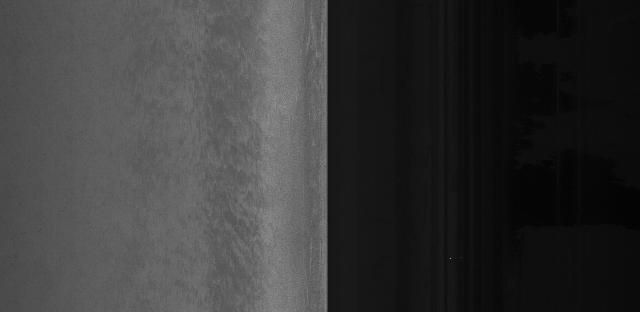silk_spot: (202, 82, 281, 251)
